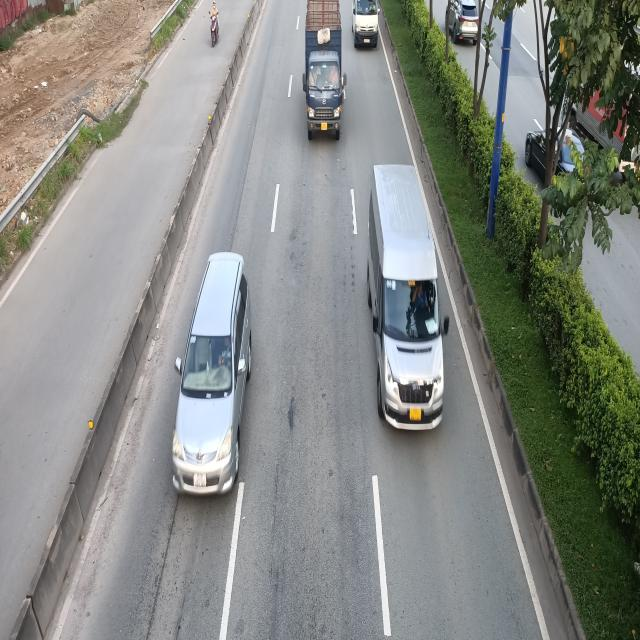car: (172, 249, 256, 496)
truck: (302, 1, 344, 140)
van: (370, 164, 454, 435), (351, 0, 378, 49)
